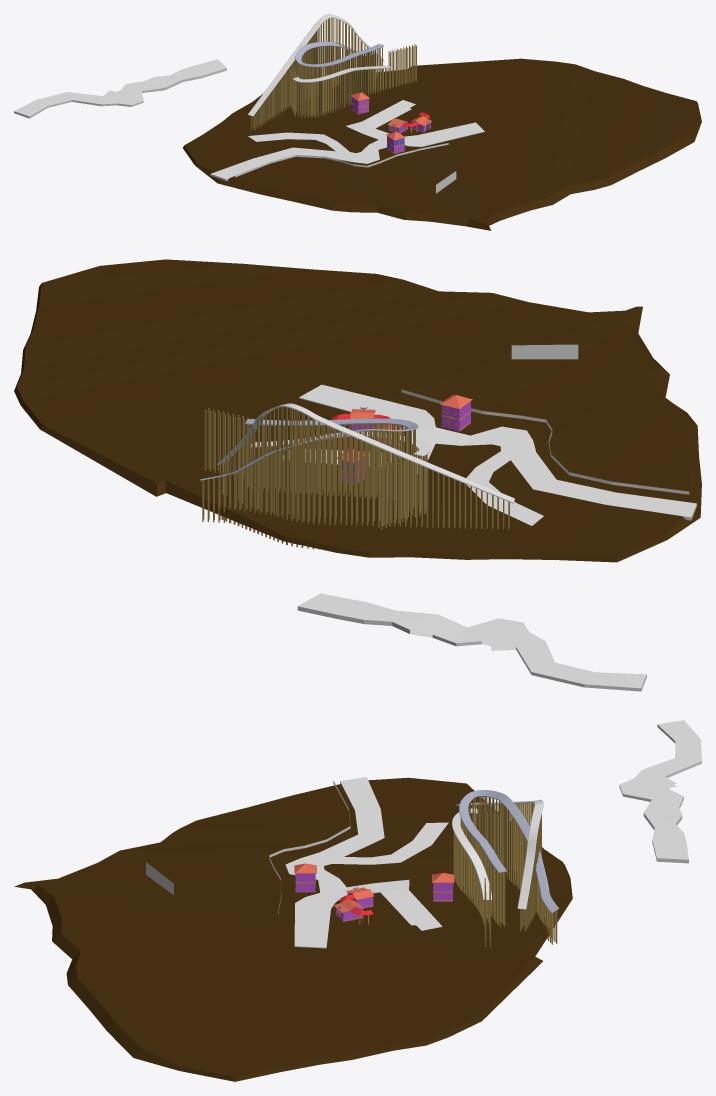
Rendered from 2StoryHouse_V1.fbx.
3 renders of one model, top to bottom at view 1: azimuth 30°, elevation 25°; view 2: azimuth 150°, elevation 25°; view 3: azimuth 270°, elevation 25°, orthographic. The views are drawn at different scales.
Visible parts, largest first — view 1: Plane.002, Plane.006, Cube.010, Cube.000, Cube.001, Cube.012, Cube.003, BezierCurve.018, BezierCurve.017, Cube.011, BezierCurve.016; view 2: Plane.002, Plane.006, Cube.003, Cube.001, Cube.010, Cube.012, Cube.000, Cube.011, BezierCurve.018, BezierCurve.017; view 3: Plane.002, Plane.006, Cube.010, Cube.012, Cube.001, Cube.000, BezierCurve.017, Cube.003, BezierCurve.018, BezierCurve.016, Cube.011.
Part boxes in pixels (bbox=[...]): Plane.002: bbox=[408, 58, 701, 228]; Plane.006: bbox=[183, 68, 490, 230]; Cube.010: bbox=[210, 100, 484, 180]; Cube.000: bbox=[290, 44, 416, 118]; Cube.001: bbox=[297, 46, 382, 115]; Cube.012: bbox=[14, 59, 226, 118]; Cube.003: bbox=[250, 18, 381, 130]; BezierCurve.018: bbox=[248, 14, 384, 116]; BezierCurve.017: bbox=[295, 41, 383, 67]; Cube.011: bbox=[235, 143, 456, 193]; BezierCurve.016: bbox=[293, 65, 390, 82]; Plane.002: bbox=[14, 259, 641, 496]; Plane.006: bbox=[163, 306, 701, 562]; Cube.003: bbox=[221, 407, 509, 549]; Cube.001: bbox=[202, 424, 415, 524]; Cube.010: bbox=[283, 384, 696, 525]; Cube.012: bbox=[297, 593, 646, 691]; Cube.000: bbox=[204, 408, 427, 529]; Cube.011: bbox=[401, 344, 689, 494]; BezierCurve.018: bbox=[216, 403, 514, 503]; BezierCurve.017: bbox=[200, 418, 418, 480]; Plane.002: bbox=[31, 883, 542, 1081]; Plane.006: bbox=[14, 777, 572, 956]; Cube.010: bbox=[285, 777, 448, 948]; Cube.012: bbox=[619, 720, 701, 863]; Cube.001: bbox=[460, 796, 557, 944]; Cube.000: bbox=[453, 810, 512, 947]; BezierCurve.017: bbox=[459, 790, 558, 912]; Cube.003: bbox=[459, 802, 541, 931]; BezierCurve.018: bbox=[456, 799, 543, 909]; BezierCurve.016: bbox=[452, 808, 491, 900]; Cube.011: bbox=[146, 781, 350, 914].
Size of what is drawn, in the model's own units: 57924 by 8933 by 47036.
